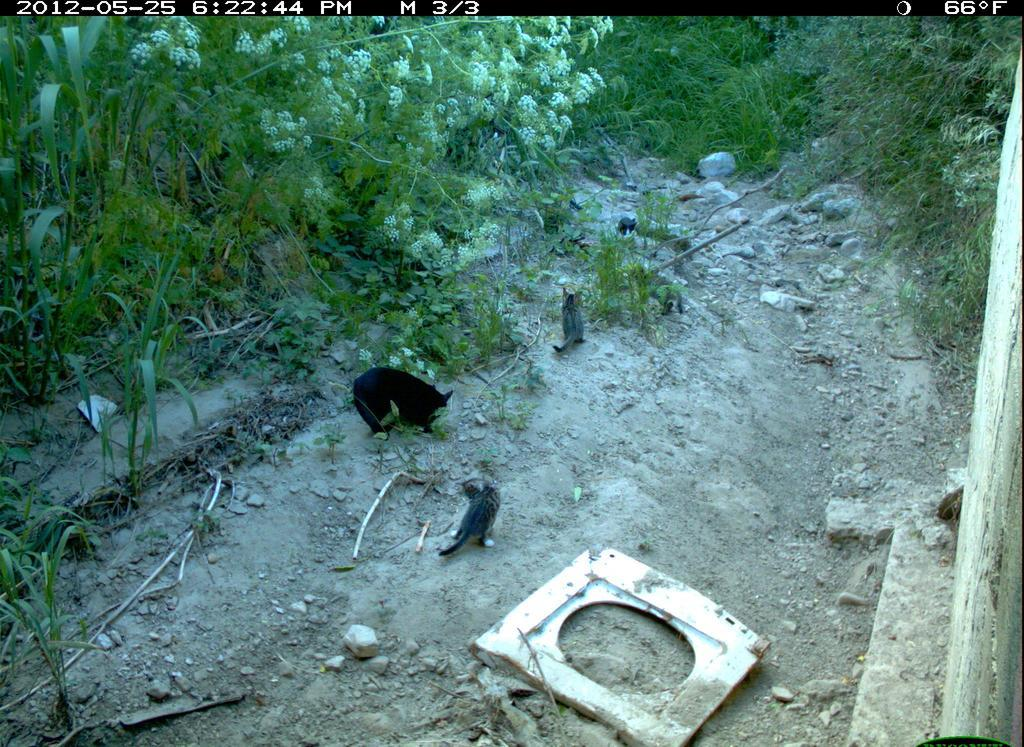cat: (614, 213, 643, 247)
